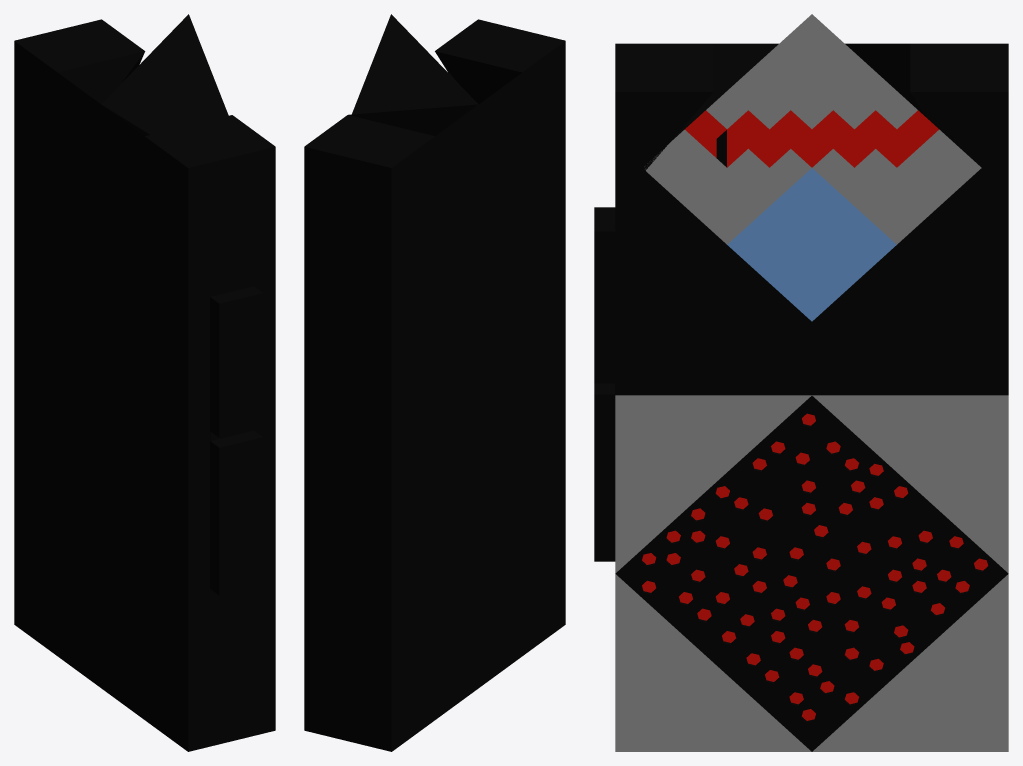
File: Walkman.fbx
3 renders of one model, left to right at view 1: azimuth 30°, elevation 25°; view 2: azimuth 150°, elevation 25°; view 3: azimuth 270°, elevation 25°, orthographic. The views are drawn at different scales.
Parts seen in each view (by area): view 1: Cube; view 2: Cube; view 3: Cube.
Boxes of the visible parts, bbox=[...] form: Cube: bbox=[14, 14, 275, 751]; Cube: bbox=[304, 14, 565, 751]; Cube: bbox=[594, 14, 1008, 751].
Size of the model in its own units: 155 by 1104 by 562.
